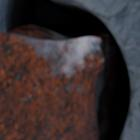brick: (0, 32, 102, 139)
crack: (0, 0, 138, 139)
